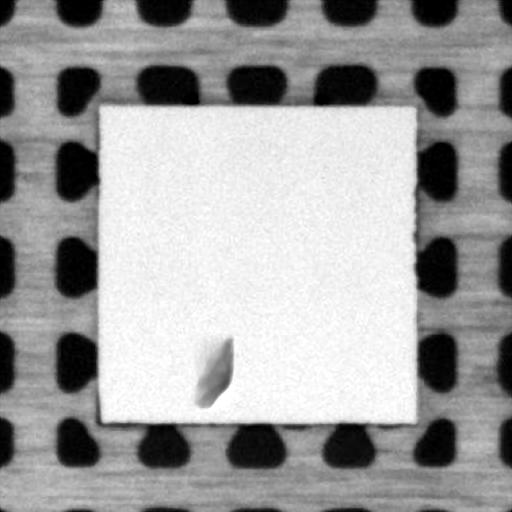DIE_INK: (194, 330, 237, 408)
